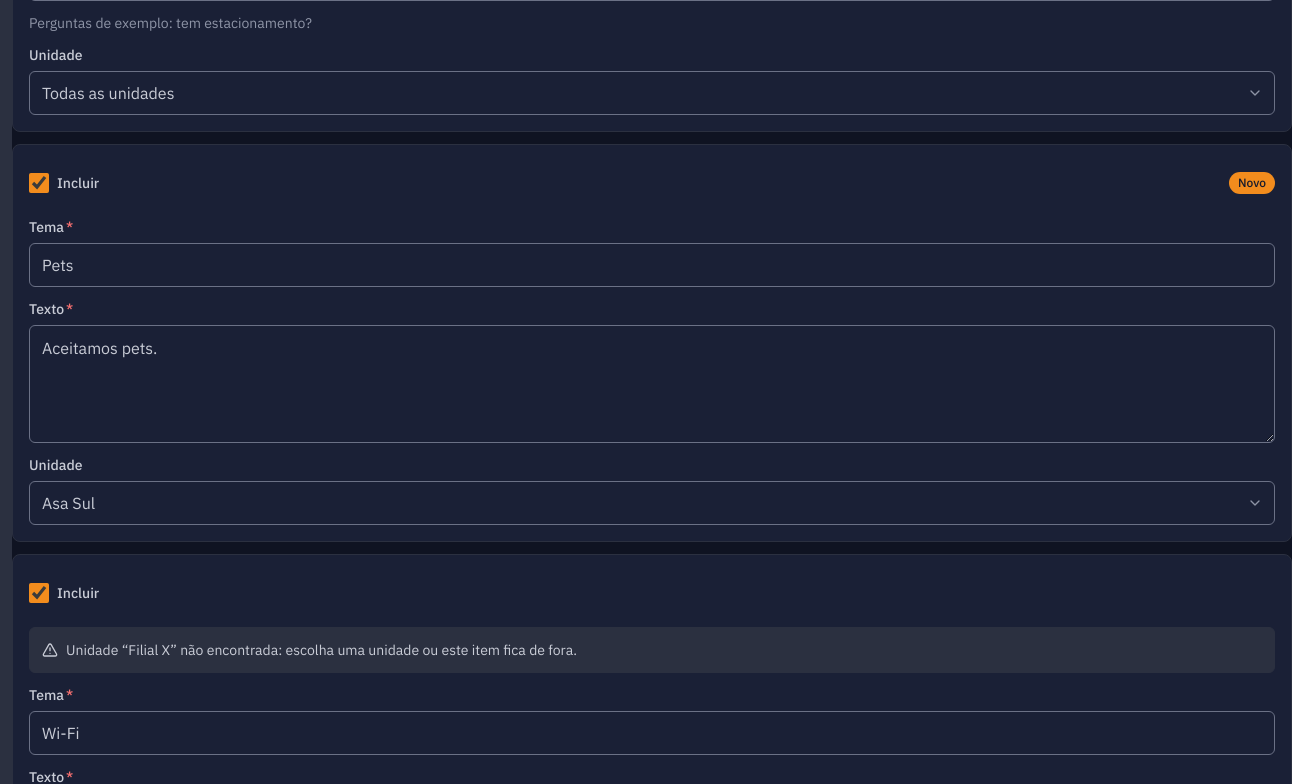
Test: RevisaoInformacoes › texto vazio não é enviado
(page scrolled)
Clear the 2nd text box labelled "Texto*": (652, 384) [29, 325, 1275, 443]
(page scrolled)
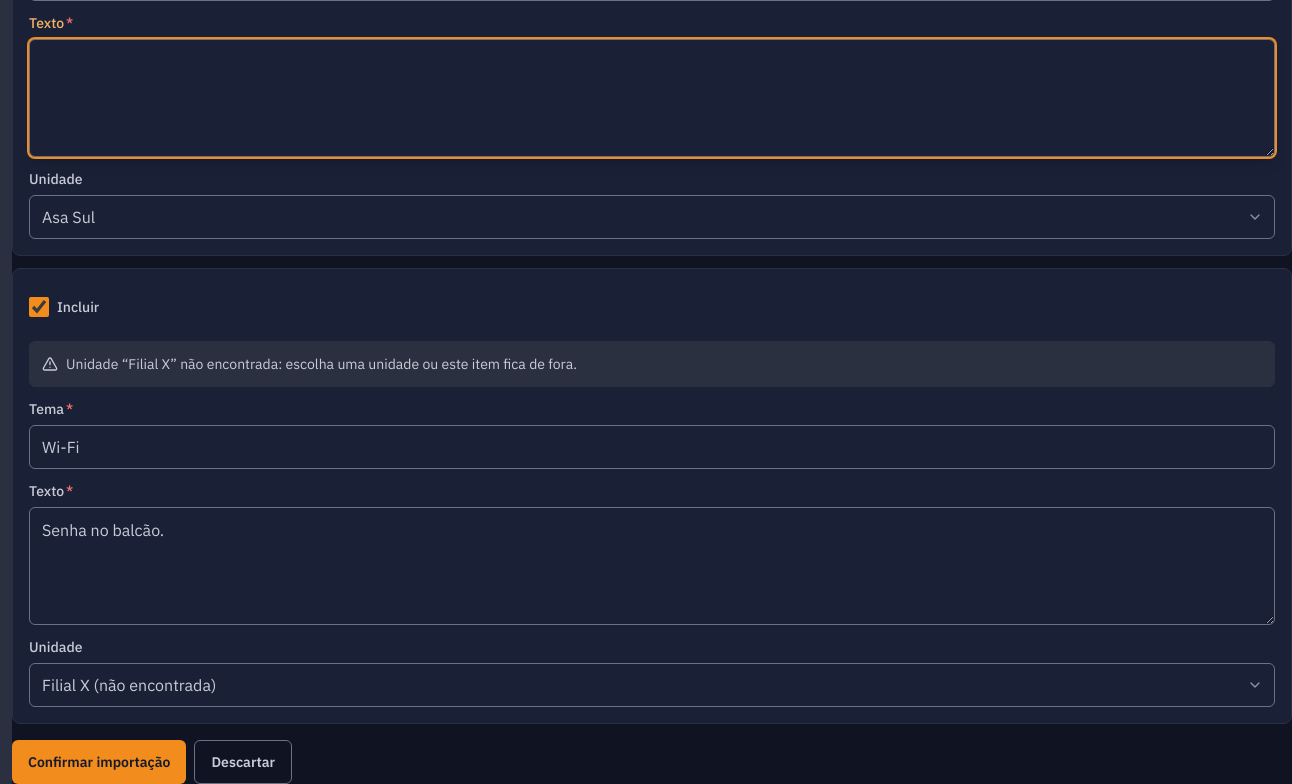
Click the button "Confirmar importação": (99, 762) [12, 740, 186, 783]
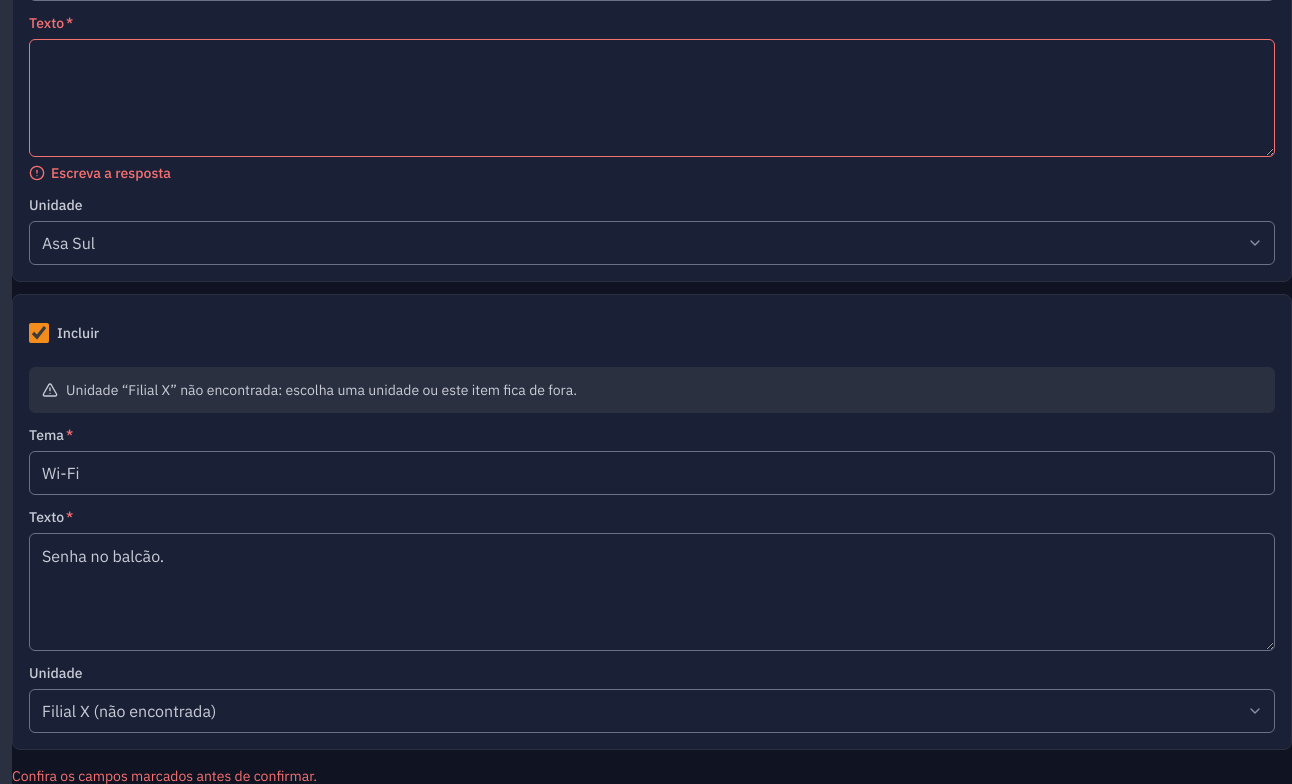
Expected: the text "Escreva a resposta" is shown, [29, 164, 171, 182]
